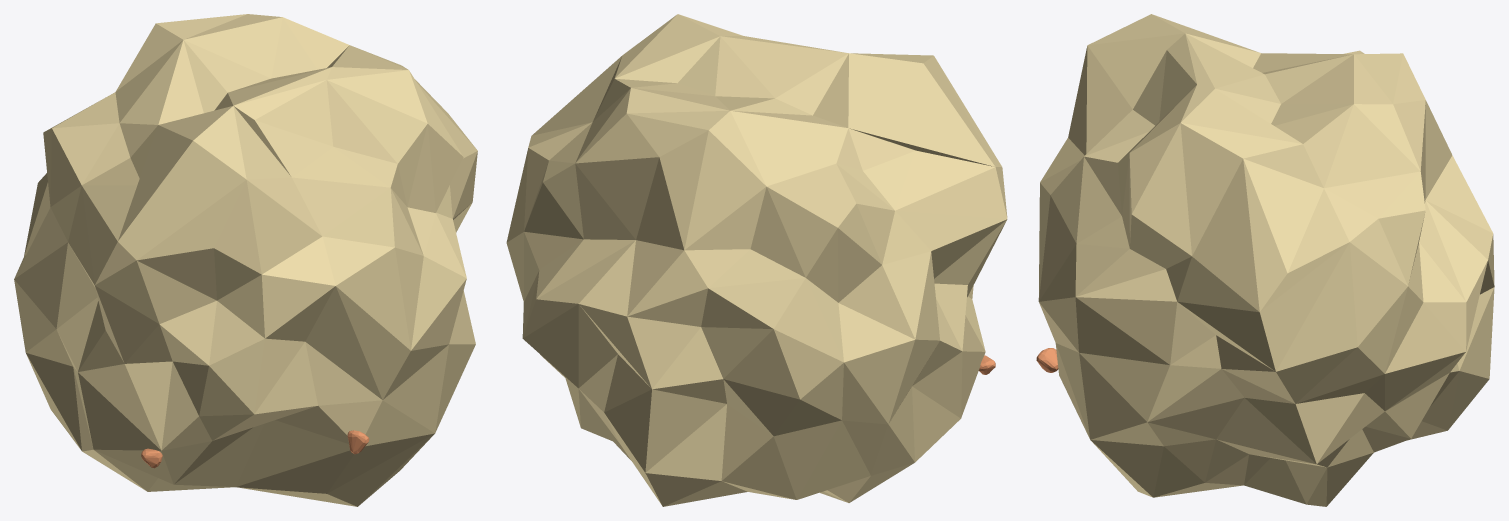
File: StoneOre (18).fbx
3 views of the same model, side by side, from view 1: azimuth 30°, elevation 25°; view 2: azimuth 150°, elevation 25°; view 3: azimuth 270°, elevation 25° (orthographic).
Parts seen in each view (by area): view 1: Asteroid305; view 2: Asteroid305; view 3: Asteroid305.
Part boxes in pixels (<box>): Asteroid305: <box>14,14,477,506</box>; Asteroid305: <box>506,14,1007,506</box>; Asteroid305: <box>1036,14,1494,506</box>.
Size of the model in its own units: 380 by 350 by 348.
